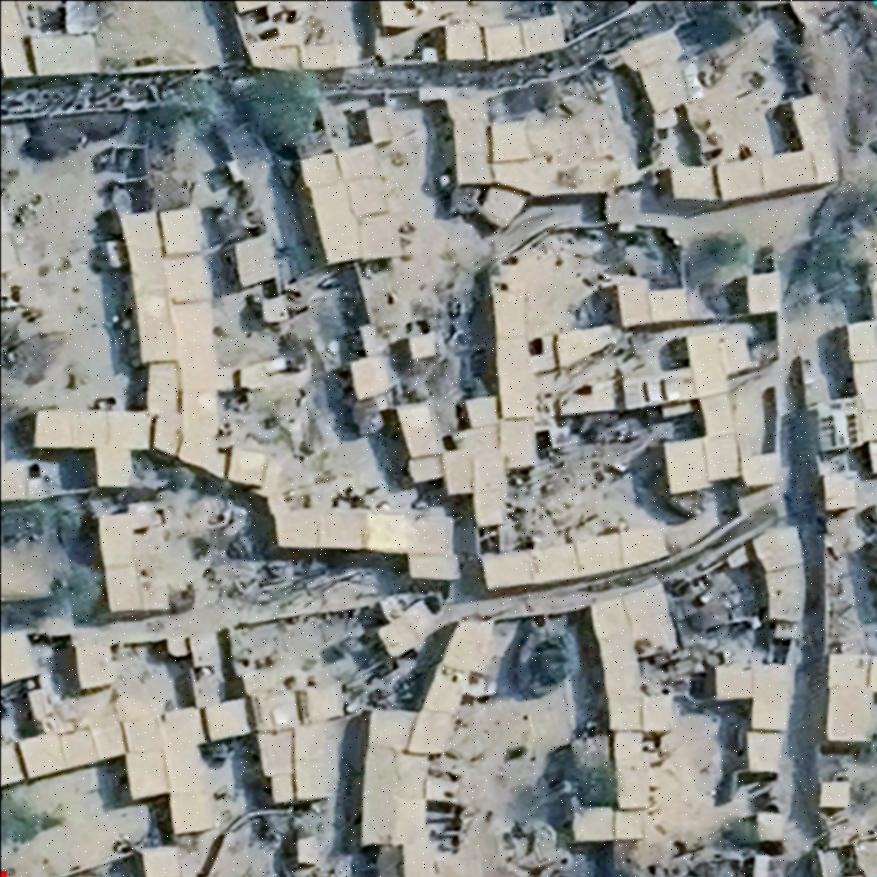Solarpanel: (818, 413, 840, 450), (844, 413, 859, 443)
